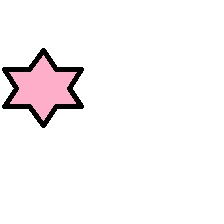star: (2, 48, 85, 128)
